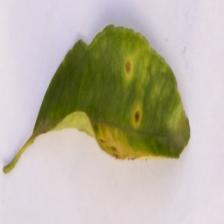canker: (83, 33, 166, 143)
